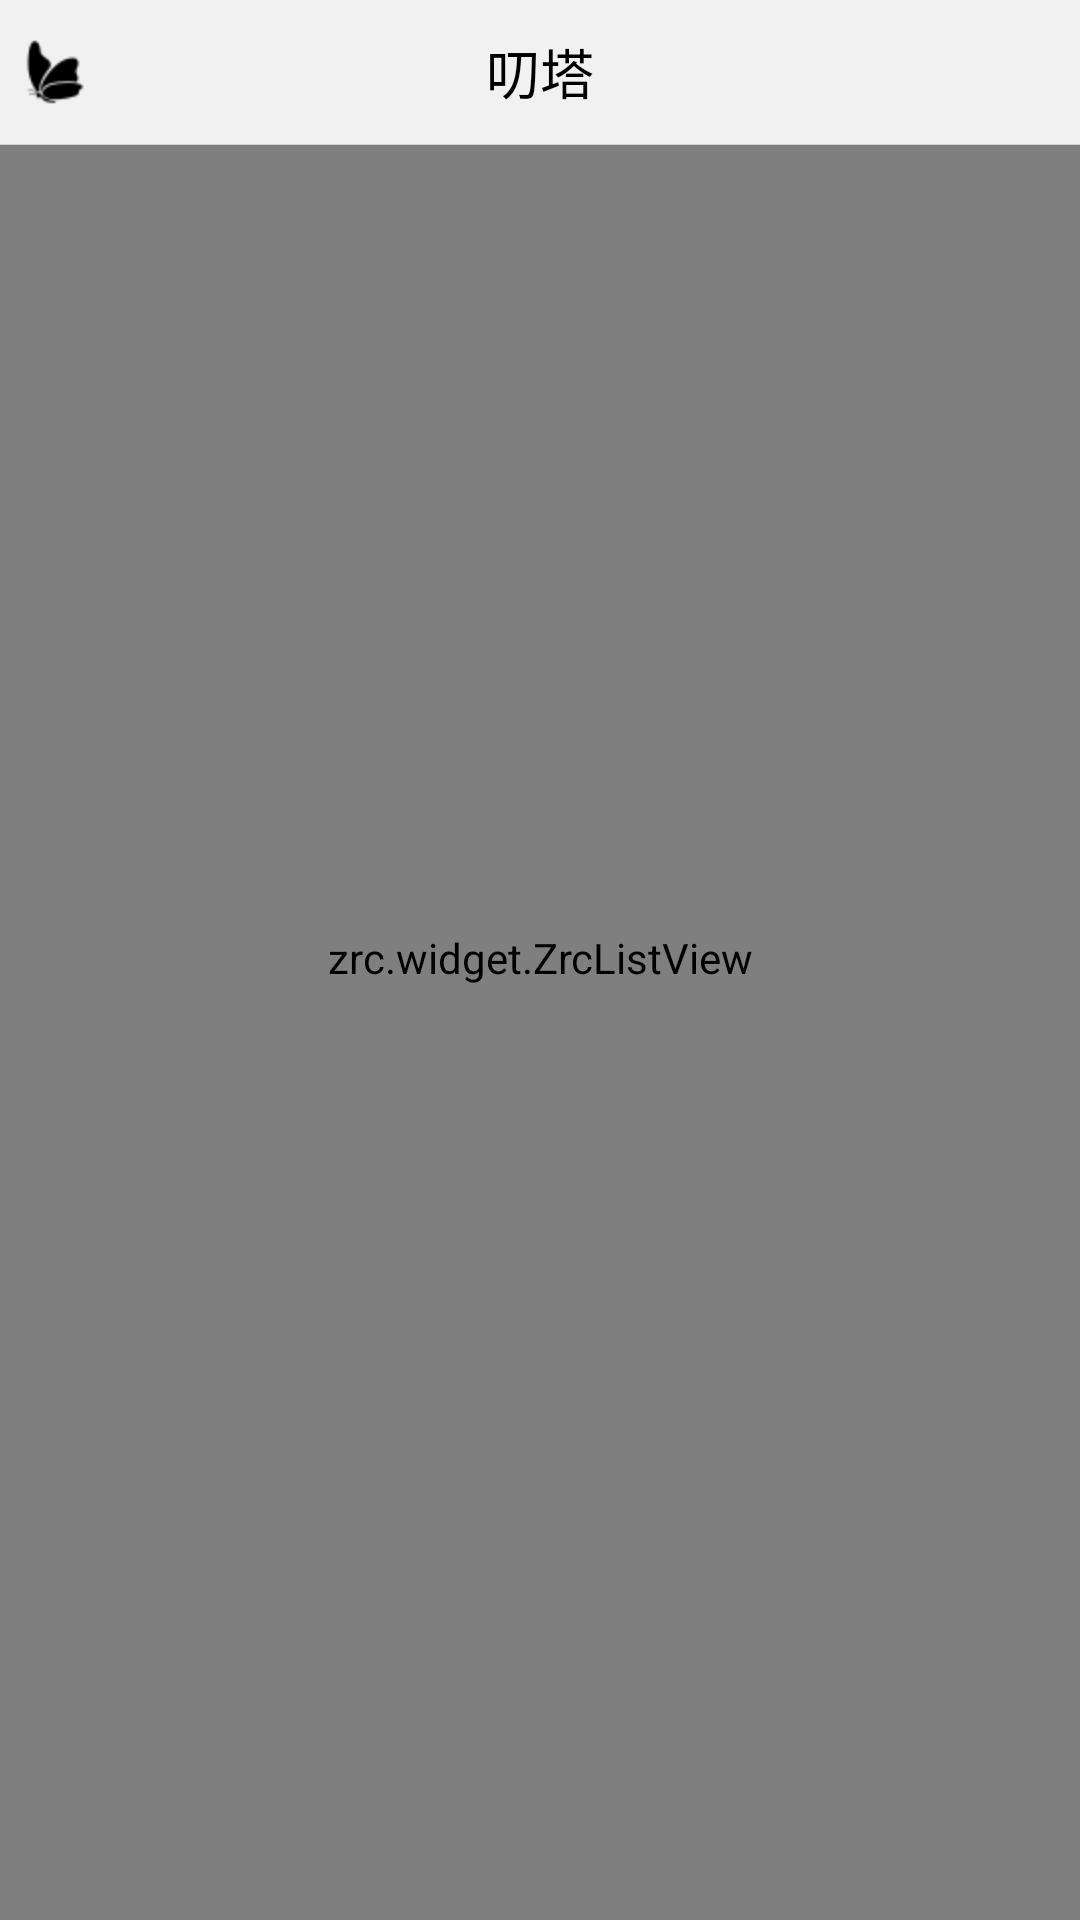

Where to tap for icons on this 1080 × 1920 app screen, as (x=x, y=y):
butterfly: (x=55, y=72)
